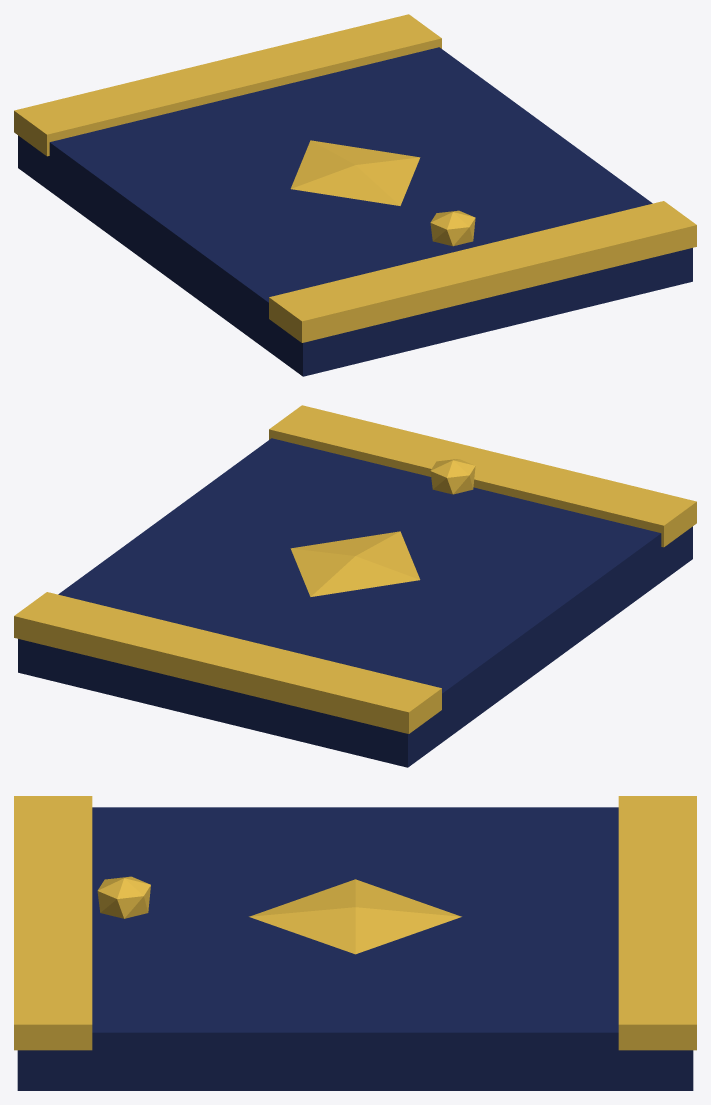
File: drop_cape_quest.glb
The picture shows the model from 3 angles, top to bottom: view 1: azimuth 30°, elevation 25°; view 2: azimuth 150°, elevation 25°; view 3: azimuth 270°, elevation 25°; orthographic projection. The views are drawn at different scales.
Visible parts, largest first — view 1: drop_cape_quest; view 2: drop_cape_quest; view 3: drop_cape_quest.
Part boxes in pixels (left/top/right/bottom): drop_cape_quest: left=14, top=14, right=696, bottom=376; drop_cape_quest: left=14, top=405, right=696, bottom=767; drop_cape_quest: left=14, top=796, right=696, bottom=1090.
Bounding box in the file's own units: 0.304 × 0.062 × 0.384.
